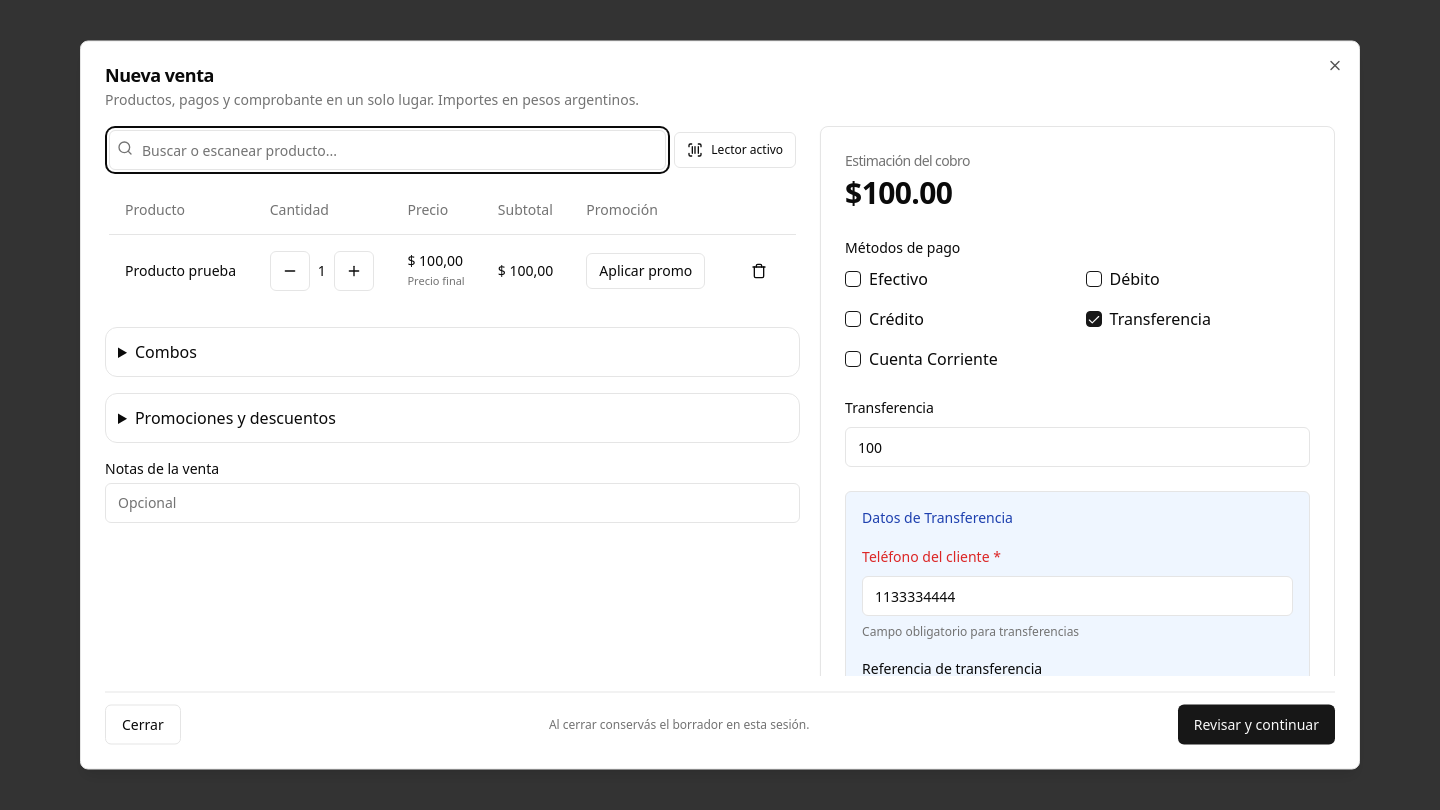
Scenario: requires the transfer receipt acknowledgement before saving
Click the button "Revisar y continuar".
click(1256, 724)  # box [1178, 704, 1335, 744]
(page scrolled)
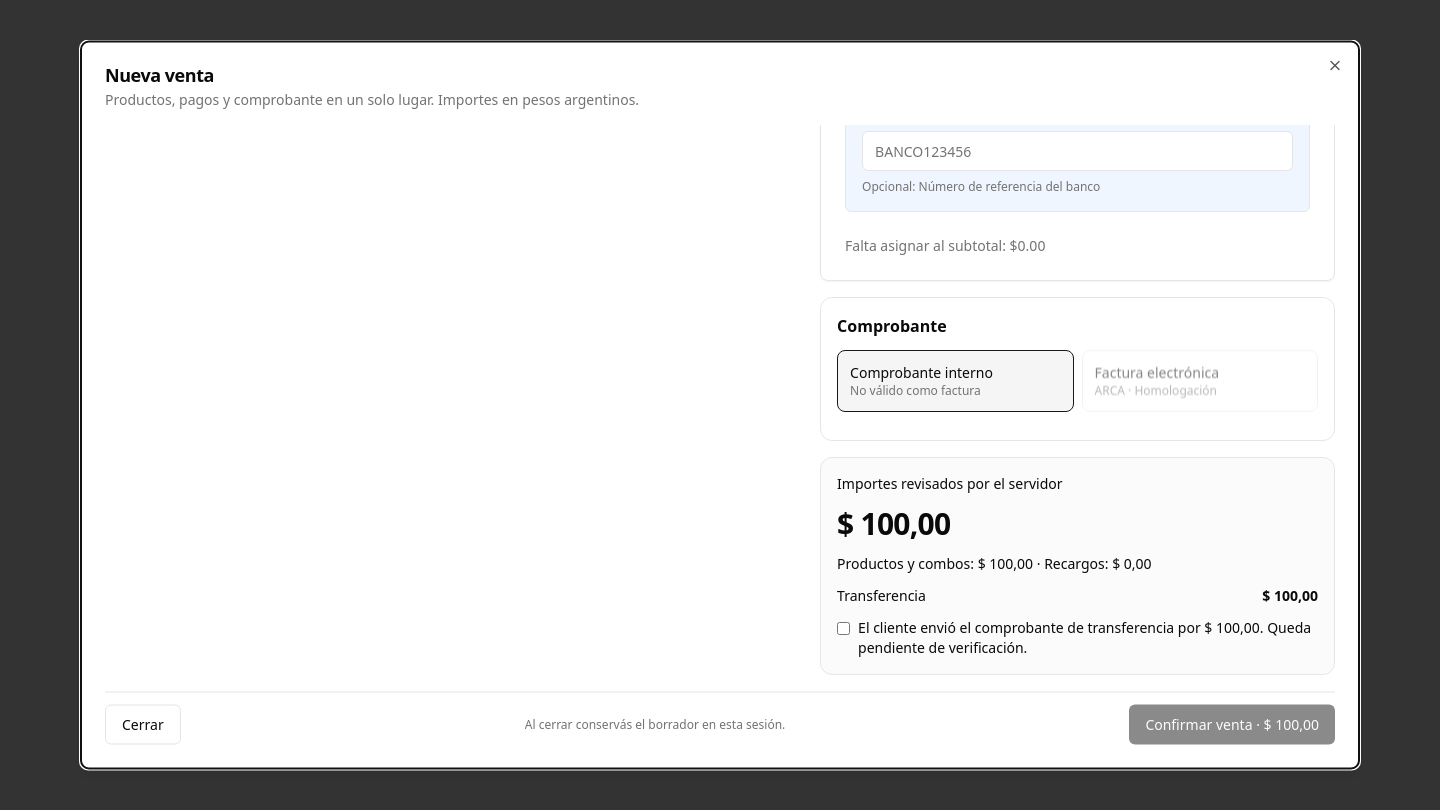
Check: the button "Confirmar venta · $ 100,00" is disabled, box [1129, 704, 1335, 744]
Click the checkbox labelled "El cliente envió".
click(844, 629)  # box [837, 622, 850, 636]
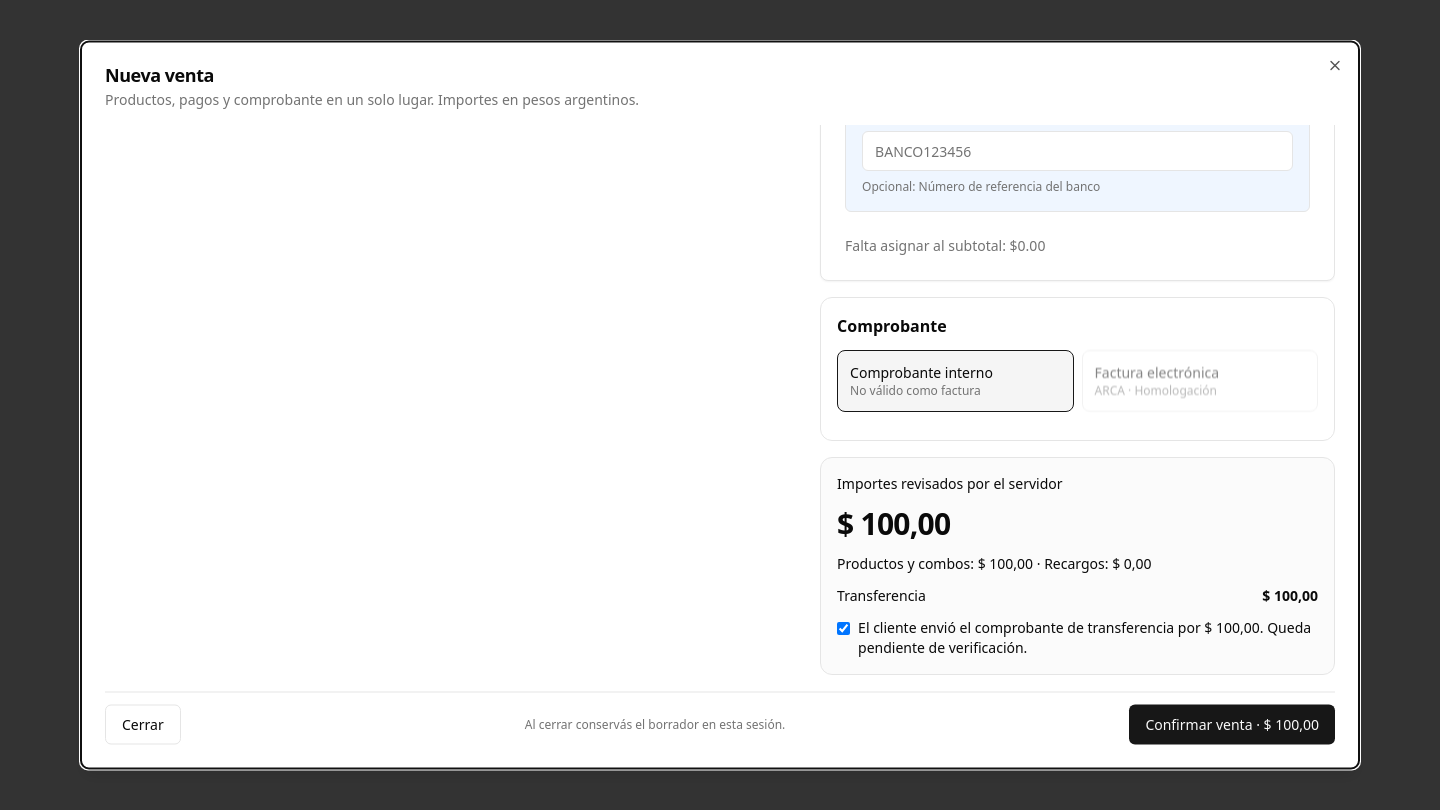
Check: the button "Confirmar venta · $ 100,00" is enabled, box [1129, 704, 1335, 744]
